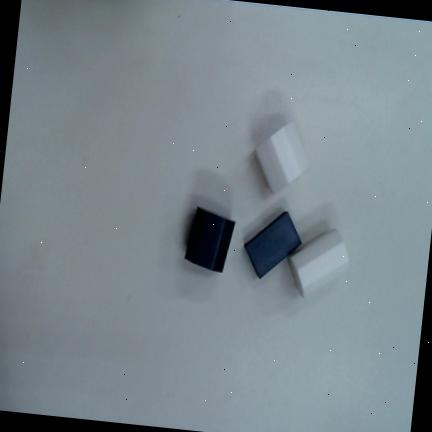Paralelepipedo: (243, 211, 302, 279)
Prisma_hexagonal: (288, 230, 349, 299), (255, 122, 309, 194), (184, 206, 236, 273)
